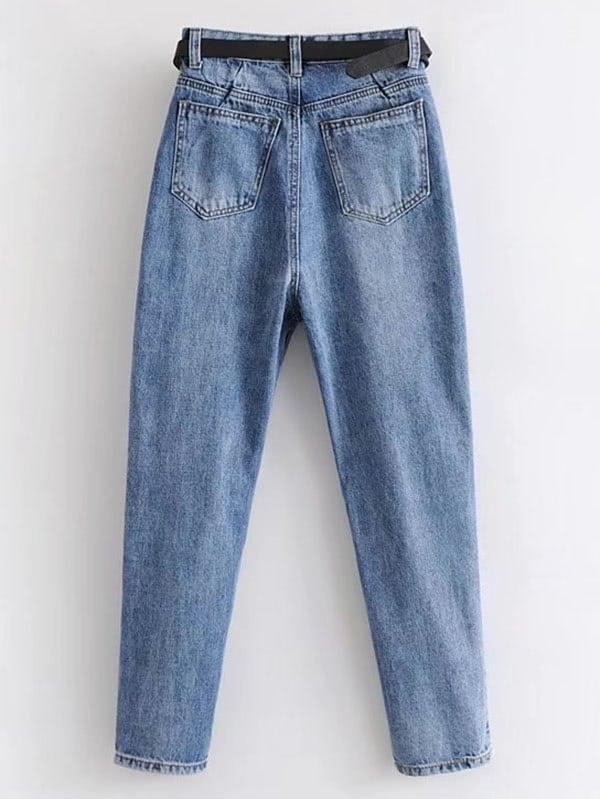Jeans: (109, 20, 501, 783)
